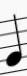note: (4, 13, 24, 74)
